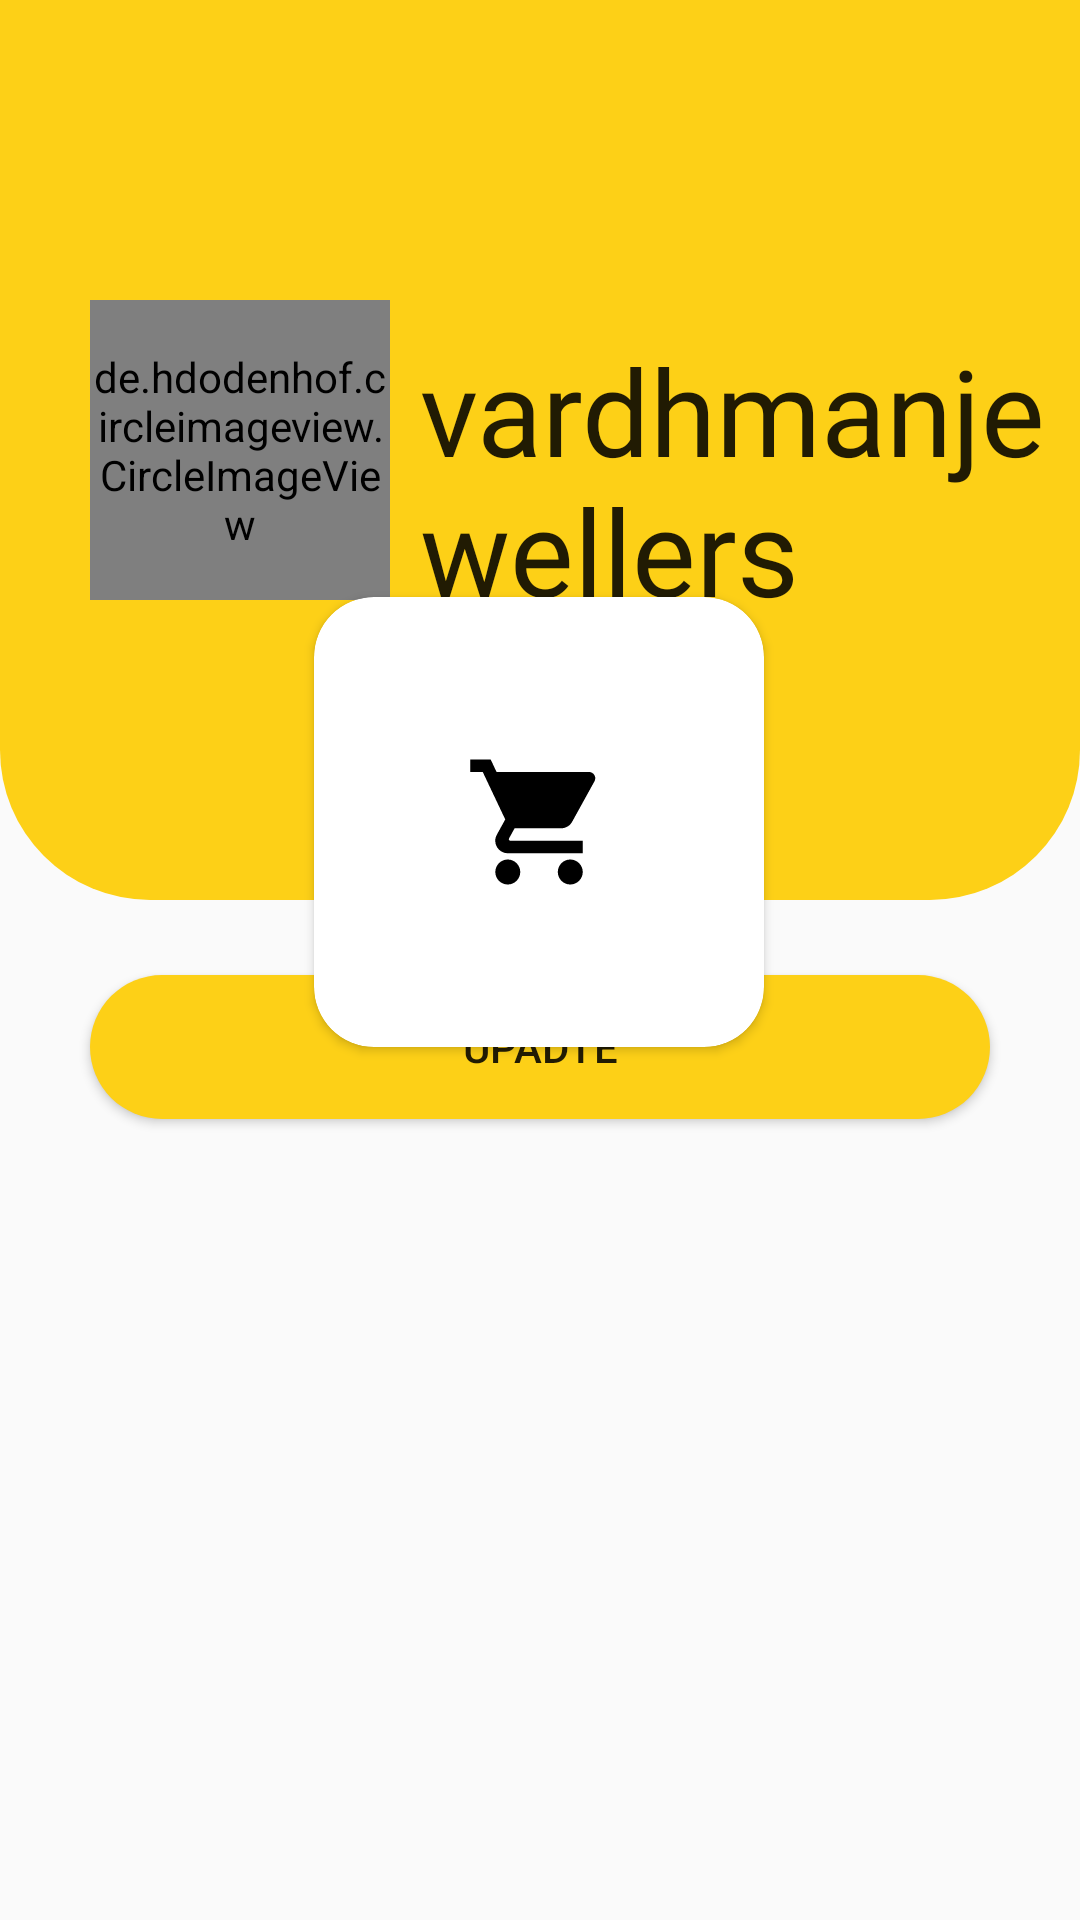

Where icons sit on this 1080 × 1920 app screen, as [x1, y1, x2, y2]:
shopping cart: [470, 759, 596, 885]
